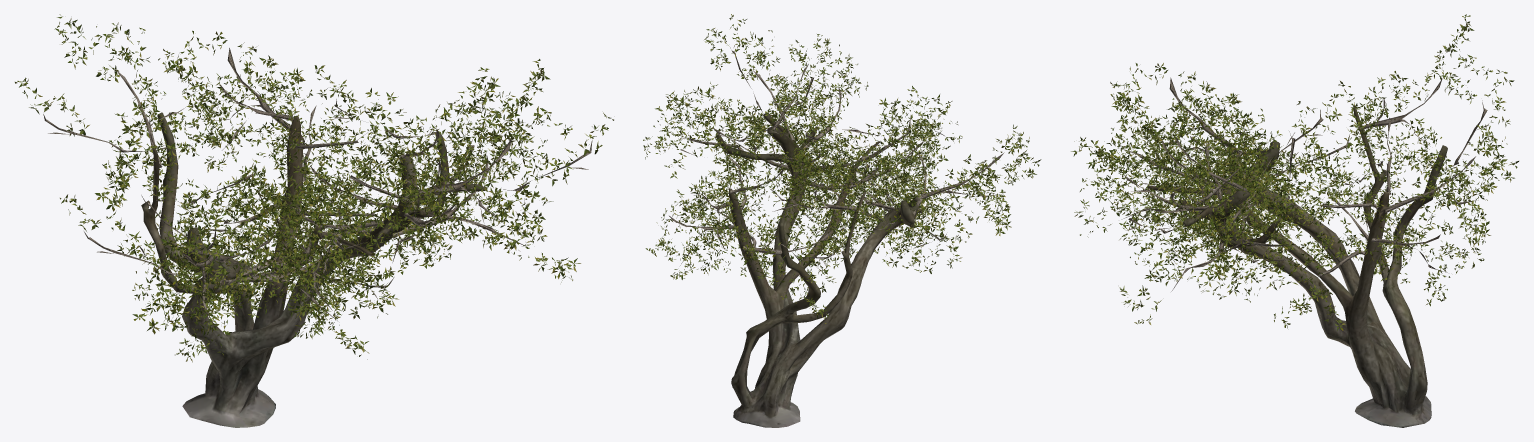
Rendered from isle-tree-2.glb.
3 renders of one model, left to right at view 1: azimuth 30°, elevation 25°; view 2: azimuth 150°, elevation 25°; view 3: azimuth 270°, elevation 25°, orthographic. The views are drawn at different scales.
Visible parts, largest first — view 1: island_tree_02_LOD0; view 2: island_tree_02_LOD0; view 3: island_tree_02_LOD0.
Part boxes in pixels (x1,y1,x2,y2): island_tree_02_LOD0: (15,14,613,427); island_tree_02_LOD0: (643,14,1041,427); island_tree_02_LOD0: (1071,14,1518,427).
Size of the model in its own units: 3.83 by 3.41 by 4.06.
Materials: 3 (3 with a texture image).
